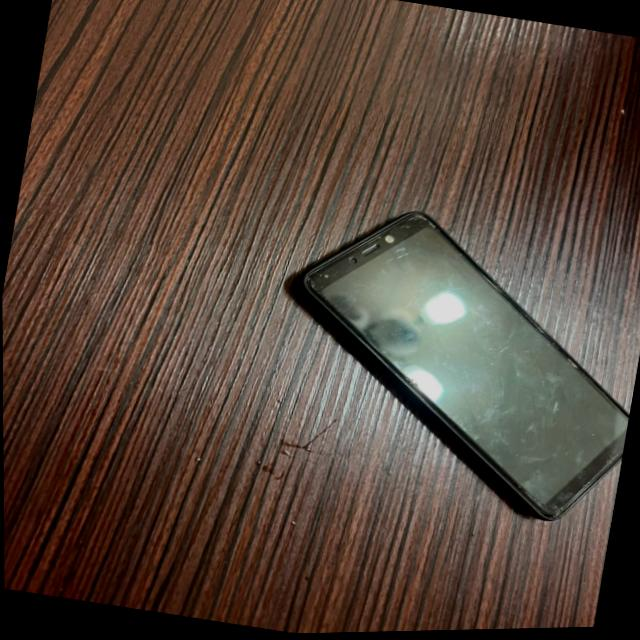Smartphone: (253, 194, 631, 556)
